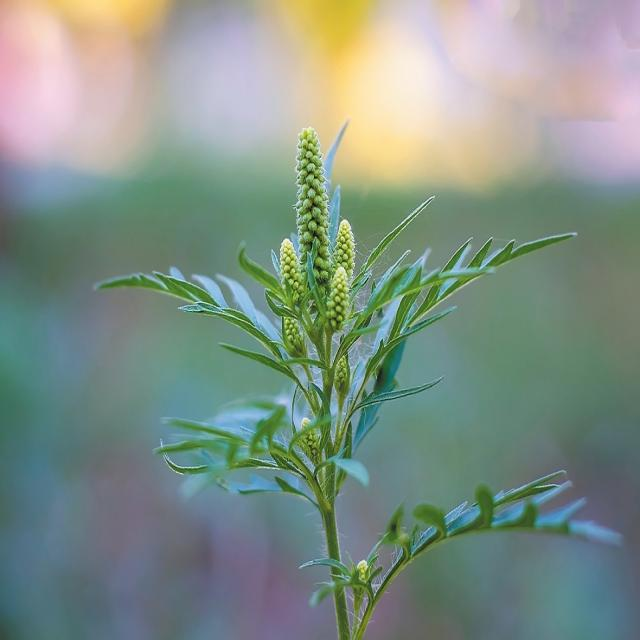ambrosia: (188, 119, 440, 513)
